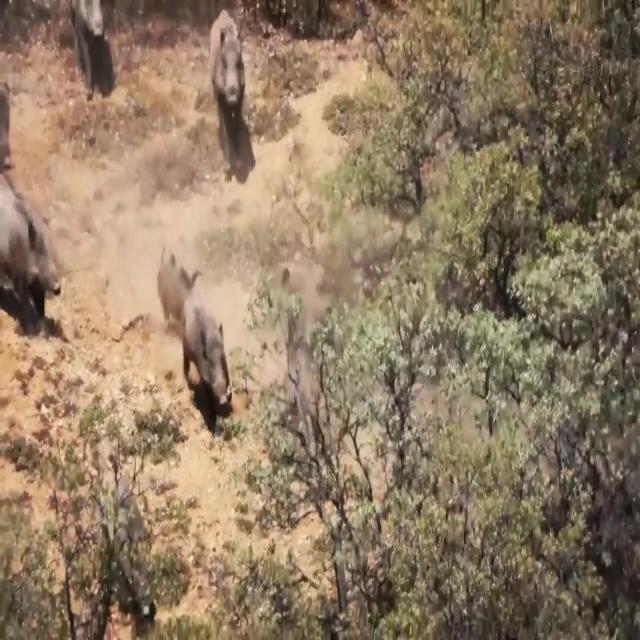pig: (0, 138, 69, 341), (202, 12, 256, 144), (188, 316, 235, 414), (82, 0, 120, 94), (168, 247, 188, 308)
